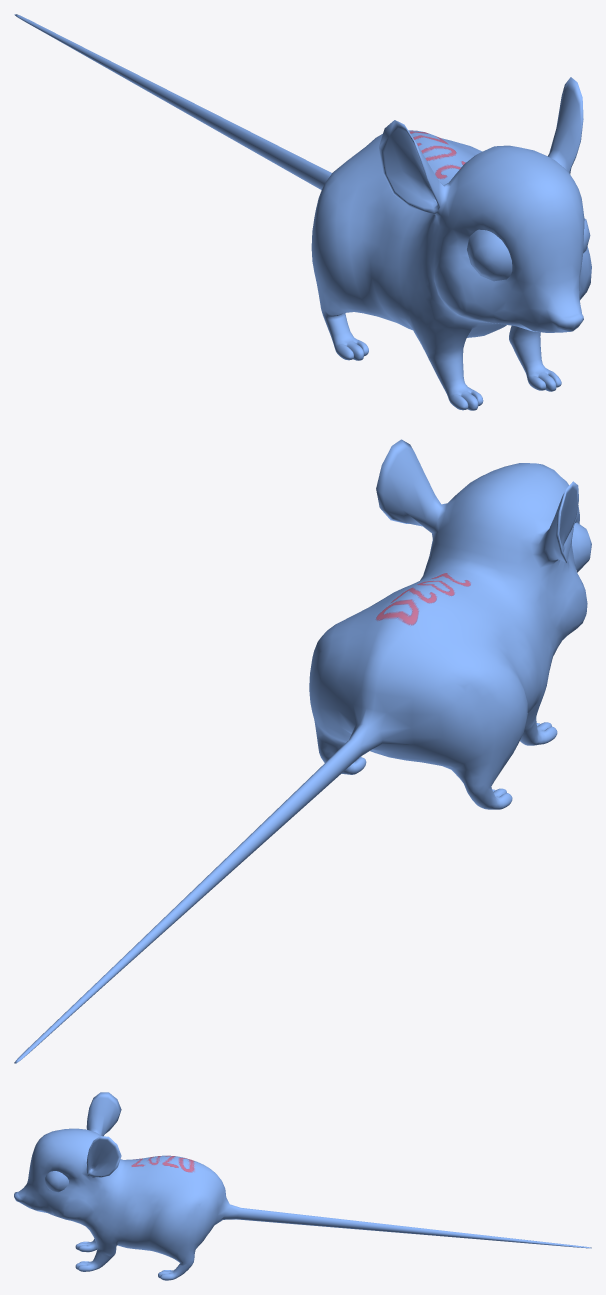
The model's file is mouse5.gltf.
The picture shows the model from 3 angles, top to bottom: view 1: azimuth 30°, elevation 25°; view 2: azimuth 150°, elevation 25°; view 3: azimuth 270°, elevation 25°; orthographic projection. The views are drawn at different scales.
Visible parts, largest first — view 1: mouse_walk v1; view 2: mouse_walk v1; view 3: mouse_walk v1.
Boxes of the visible parts, x1,y1,x2,y2 form: mouse_walk v1: (14, 14, 591, 410); mouse_walk v1: (14, 439, 591, 1063); mouse_walk v1: (14, 1092, 591, 1280).
Bounding box in the file's own units: 4.3 × 5.74 × 20.62.
Materials: 1 (1 with a texture image).
